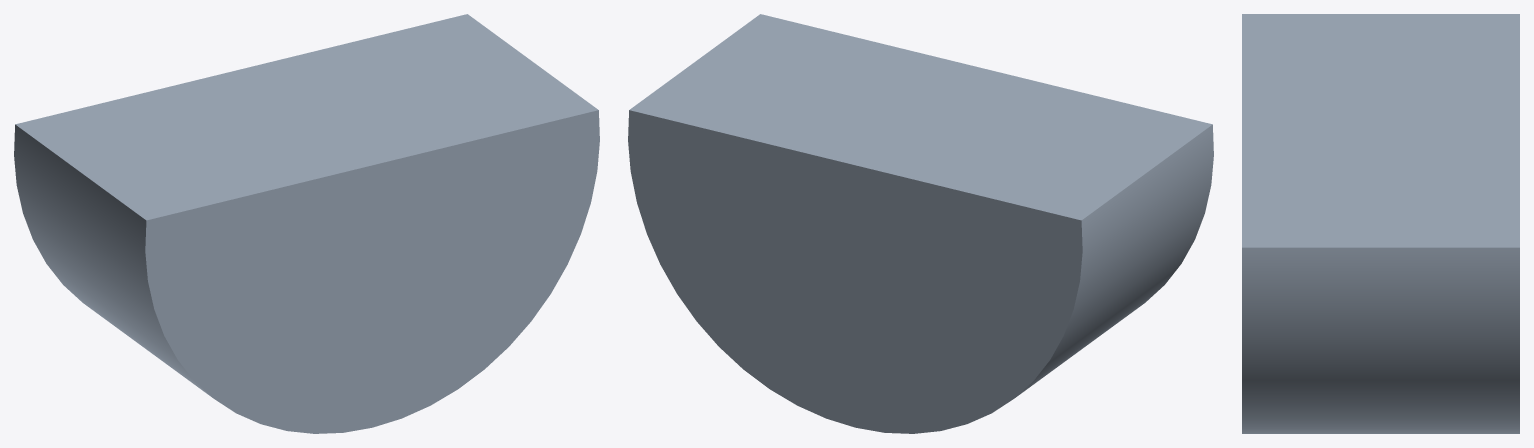
The model's file is belly.obj.
3 views of the same model, side by side, from view 1: azimuth 30°, elevation 25°; view 2: azimuth 150°, elevation 25°; view 3: azimuth 270°, elevation 25° (orthographic). The views are drawn at different scales.
Parts seen in each view (by area): view 1: 1; view 2: 1; view 3: 1.
Boxes of the visible parts, x1,y1,x2,y2 form: 1: (14, 14, 599, 433); 1: (628, 14, 1213, 433); 1: (1242, 14, 1519, 433).
Size of the model in its own units: 0.6998 by 0.3859 by 0.35.
